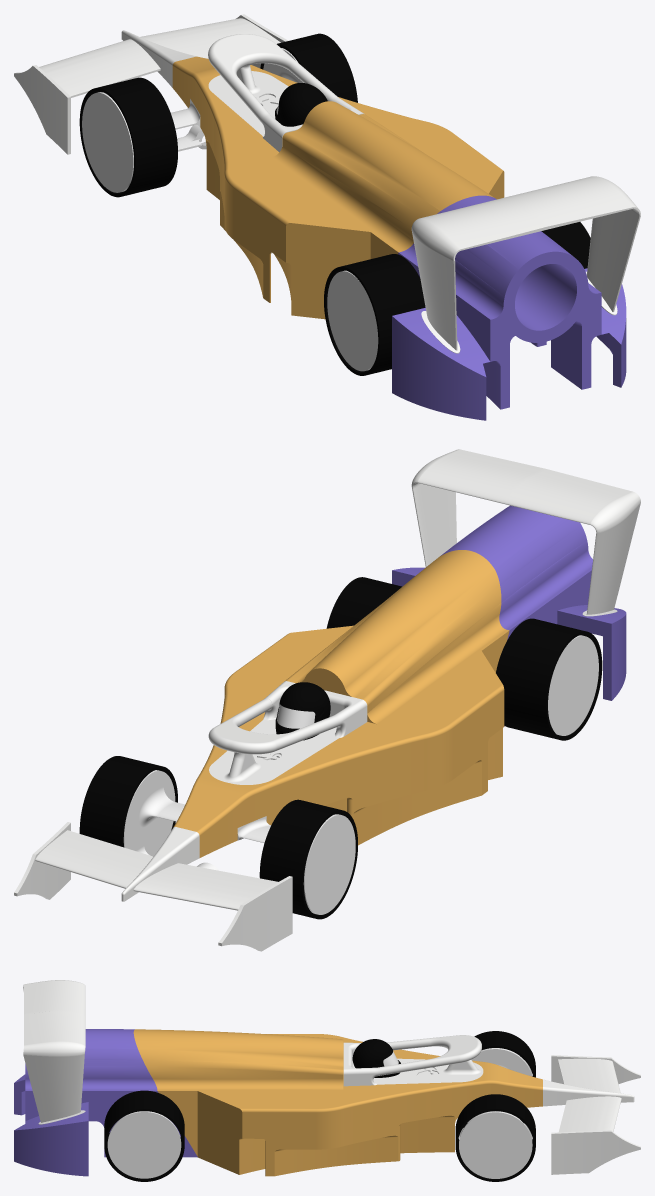
3 renders of one model, top to bottom at view 1: azimuth 30°, elevation 25°; view 2: azimuth 150°, elevation 25°; view 3: azimuth 270°, elevation 25°, orthographic. The views are drawn at different scales.
Visible parts, largest first — view 1: unreal engine; view 2: unreal engine; view 3: unreal engine.
Boxes of the visible parts, box(x1,y1,x2,y2) form: unreal engine: box(14, 14, 640, 420); unreal engine: box(14, 449, 640, 951); unreal engine: box(14, 980, 640, 1181).
Bounding box in the file's own units: 0.0663 × 0.0518 × 0.2223.
